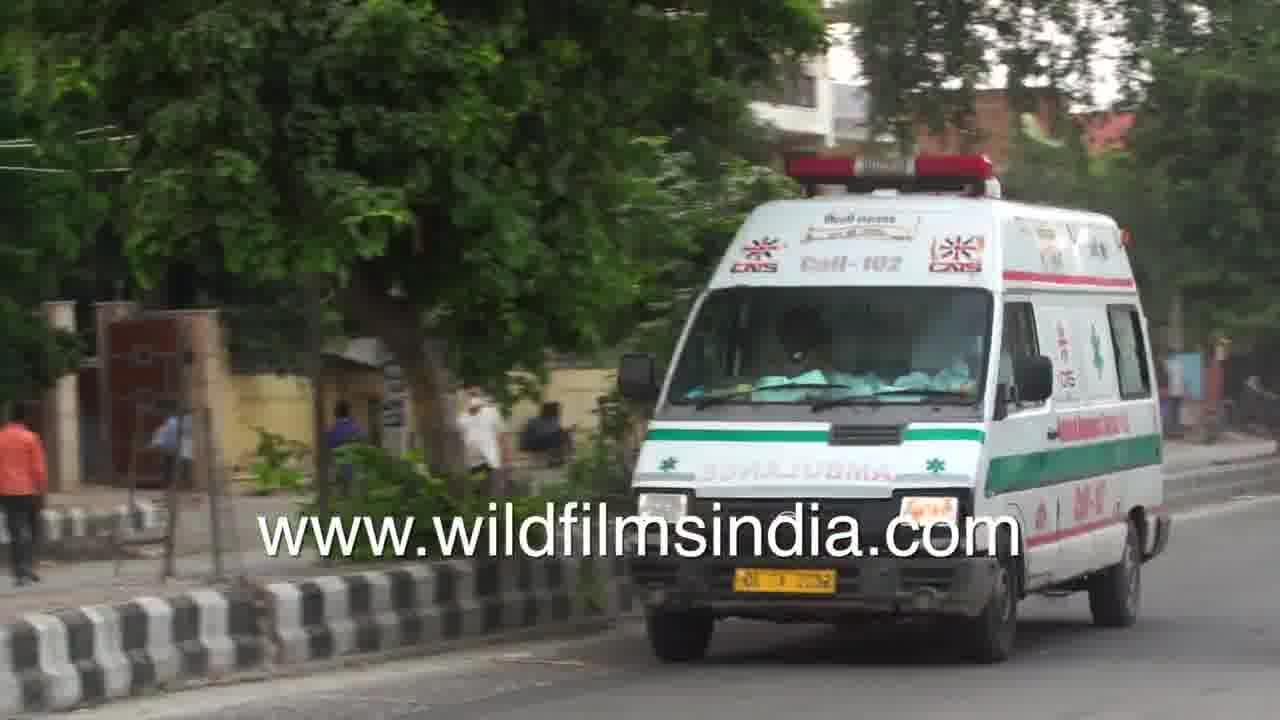AMBULANCE: (621, 143, 1200, 508), (623, 576, 1195, 661)
